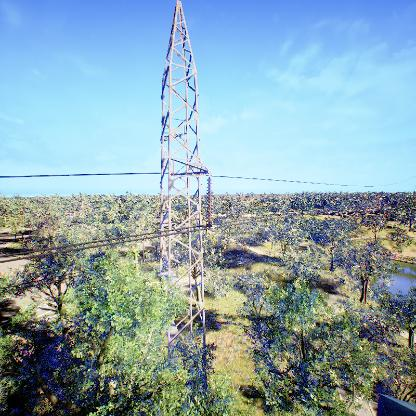tower: (151, 1, 217, 413)
